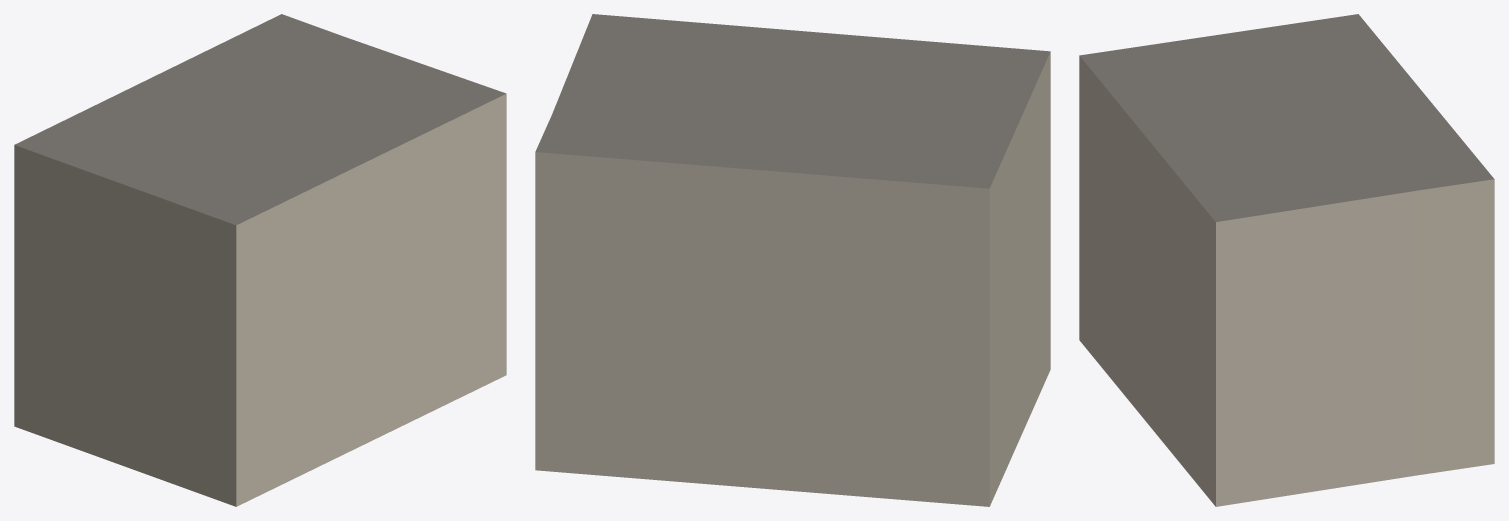
3 renders of one model, left to right at view 1: azimuth 30°, elevation 25°; view 2: azimuth 150°, elevation 25°; view 3: azimuth 270°, elevation 25°, orthographic. The views are drawn at different scales.
Parts seen in each view (by area): view 1: HP-w1198048994; view 2: HP-w1198048994; view 3: HP-w1198048994.
Part boxes in pixels (x1,y1,x2,y2): HP-w1198048994: (14, 14, 506, 506); HP-w1198048994: (535, 14, 1050, 506); HP-w1198048994: (1079, 14, 1494, 506).
Bounding box in the file's own units: 28.22 × 18 × 23.78.
